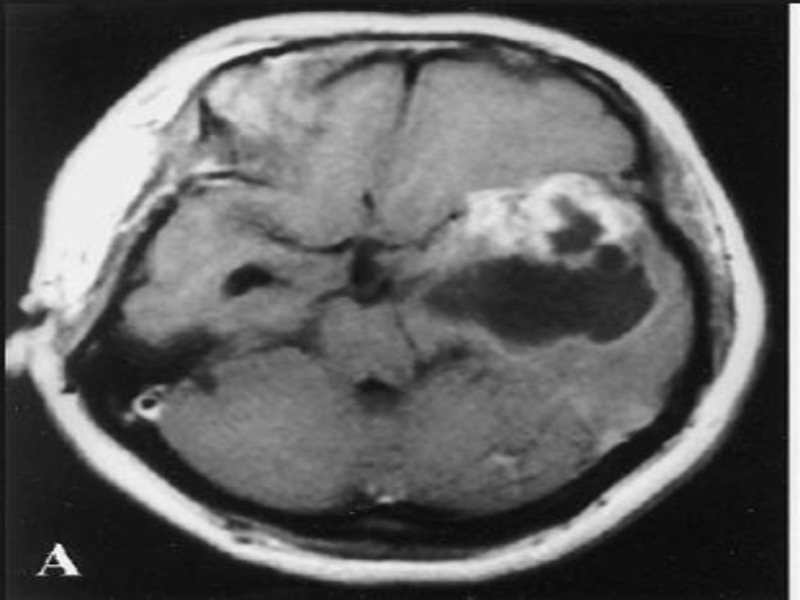tumor: (454, 162, 646, 274)
